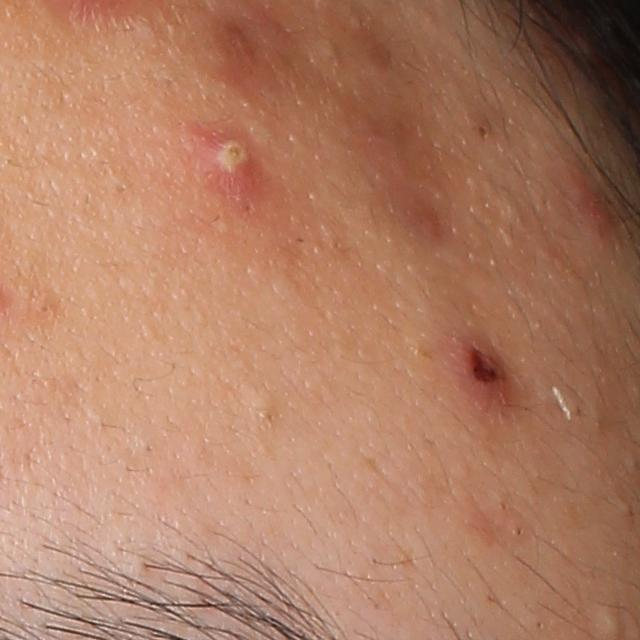comedo: (254, 392, 284, 429)
papule: (446, 336, 517, 406), (553, 165, 616, 231)
pustule: (203, 126, 268, 198)
